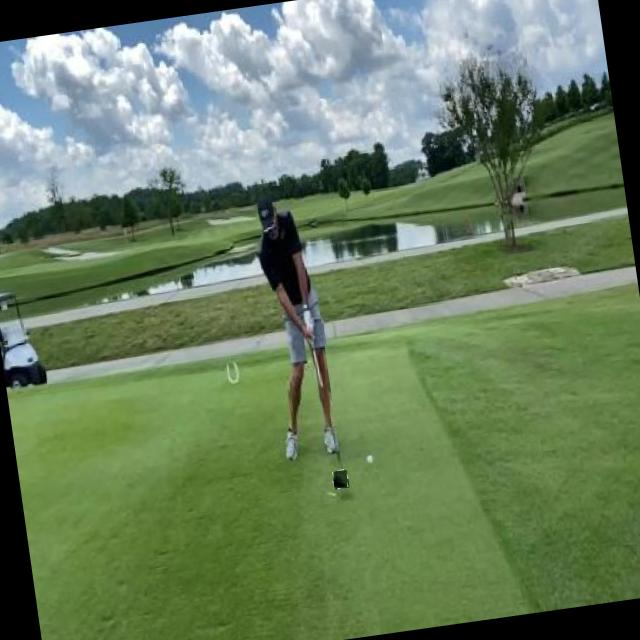club head: (332, 470, 350, 490)
